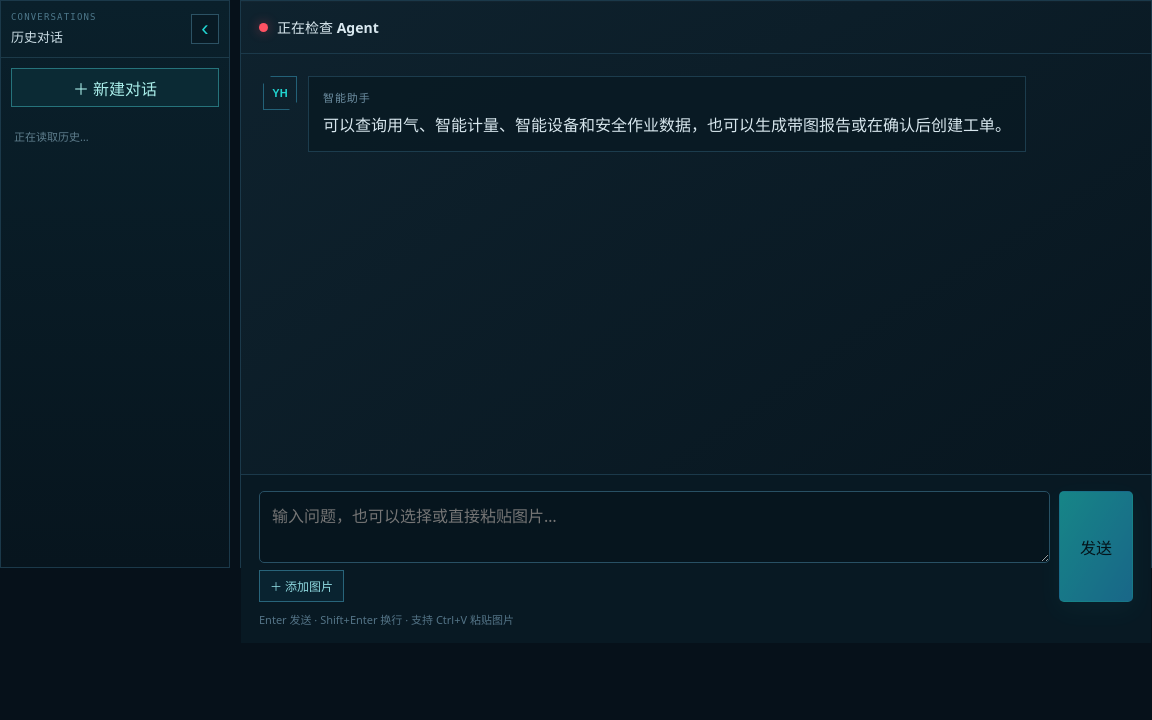
Test case: 智能问答页面 › 信息不足时补充条件并恢复同一会话
Type "查询超标用户" into the text box named "对话输入" at {"x": 654, "y": 527}, box x1=259 y1=491 x2=1050 y2=563
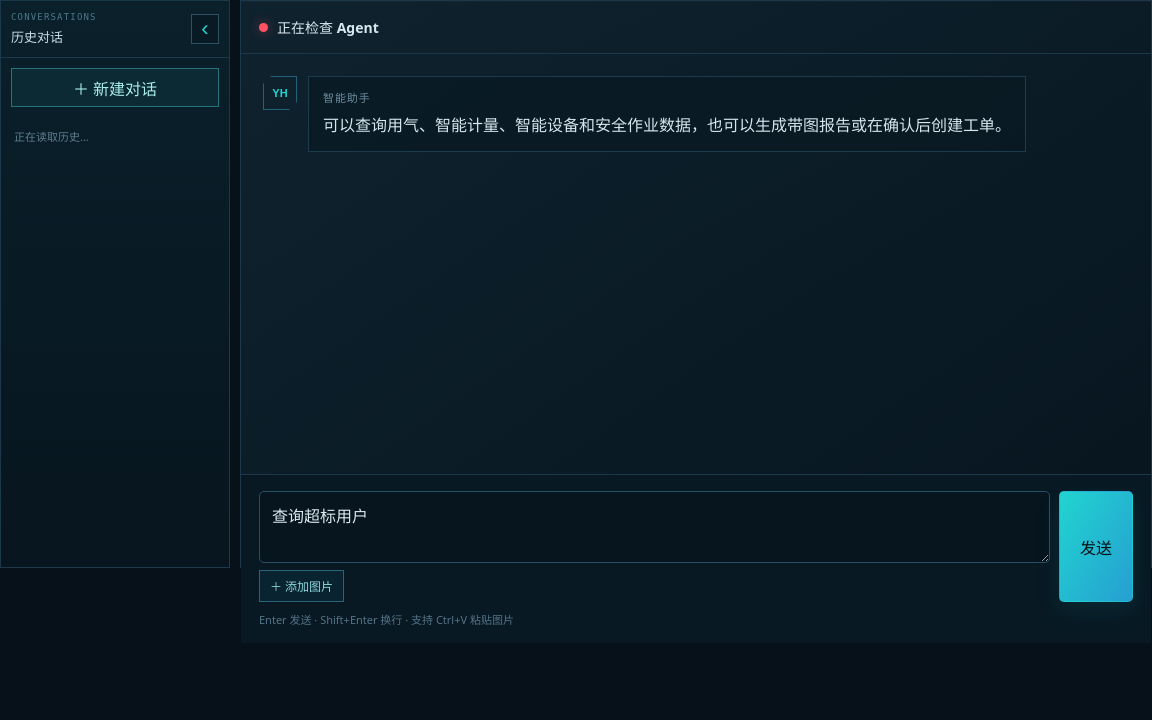
Click the button "发送" at {"x": 1096, "y": 546}, box x1=1059 y1=491 x2=1133 y2=602
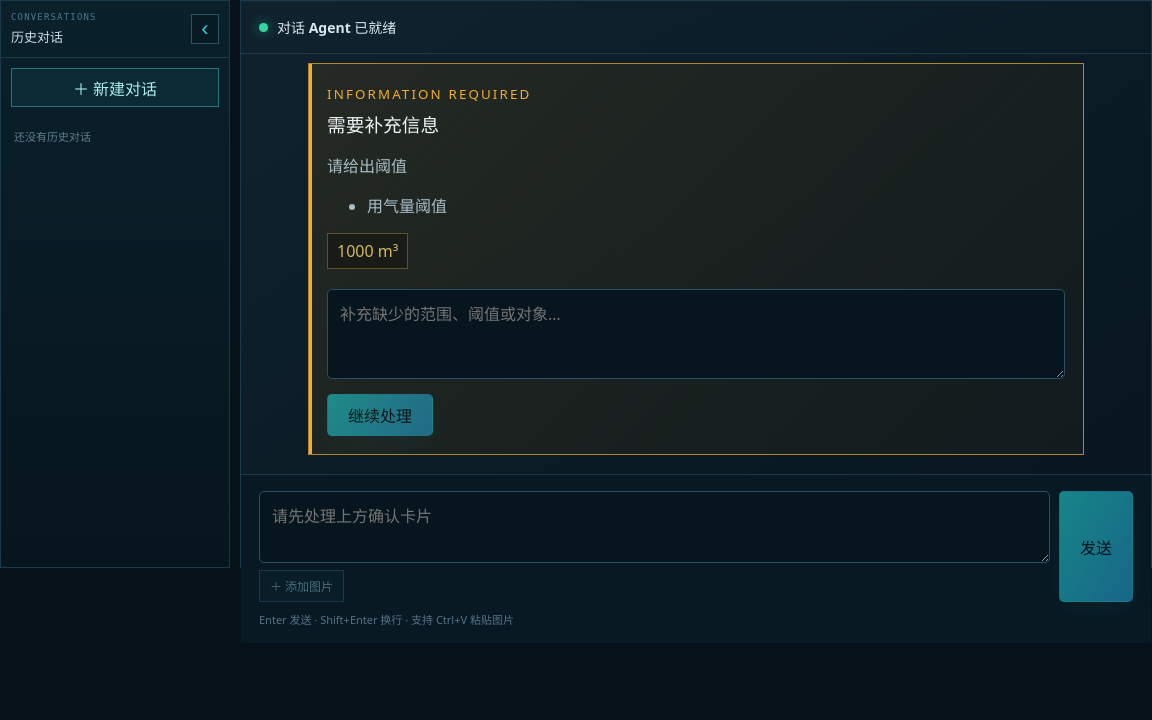
Check: the text "请给出阈值" is shown, box x1=327 y1=155 x2=407 y2=177
Click the button "1000 m³" at {"x": 368, "y": 251}, box x1=327 y1=233 x2=408 y2=269
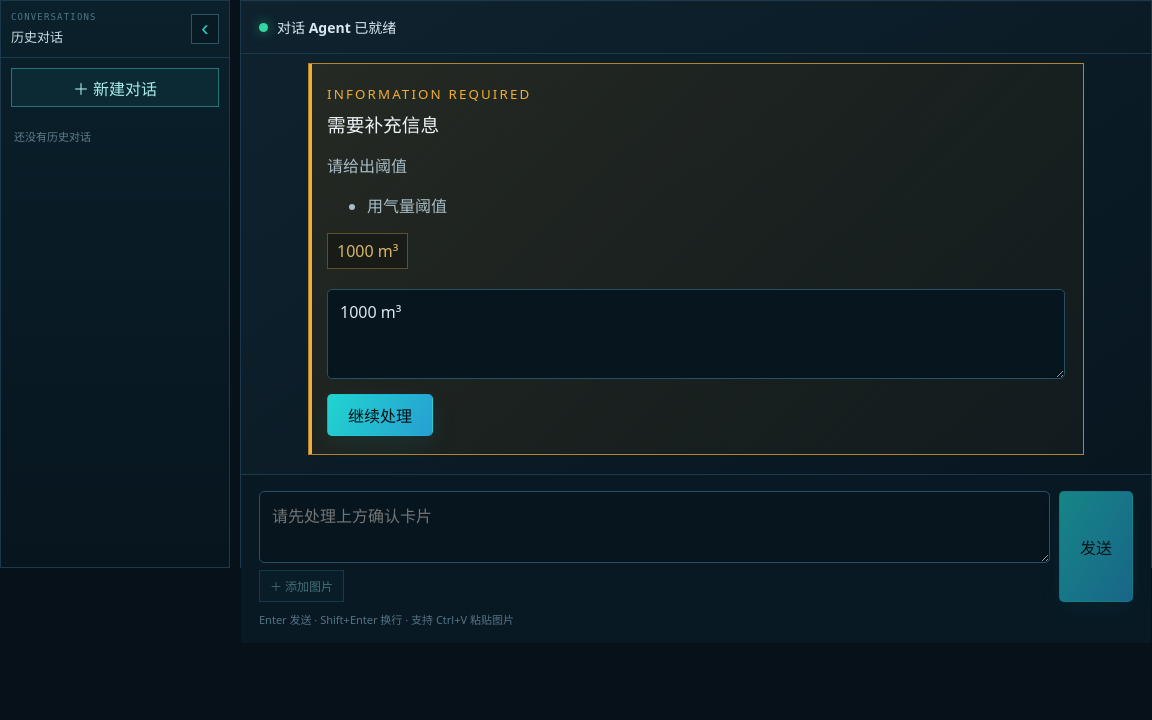
Click the button "继续处理" at {"x": 380, "y": 415}, box x1=327 y1=394 x2=433 y2=436
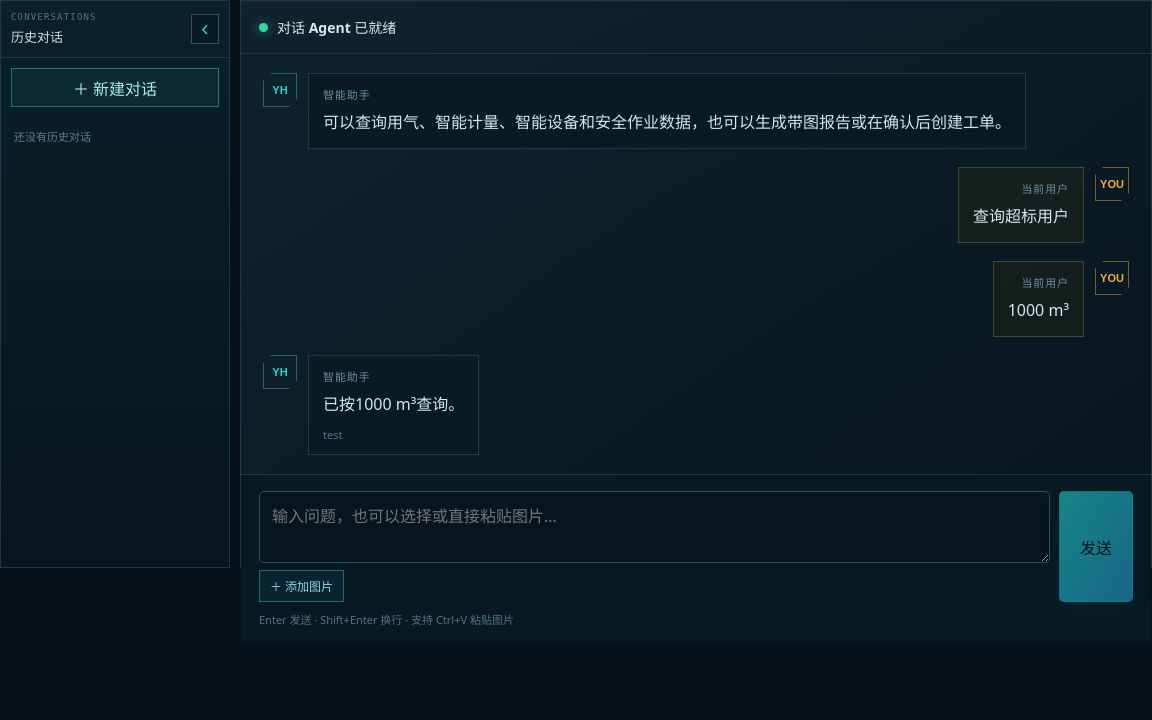
Check: the heading "需要补充信息" is gone
Check: the text "已按1000 m³查询。" is shown, box x1=323 y1=390 x2=464 y2=418
